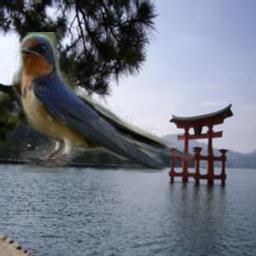Swallow: (12, 32, 195, 173)
